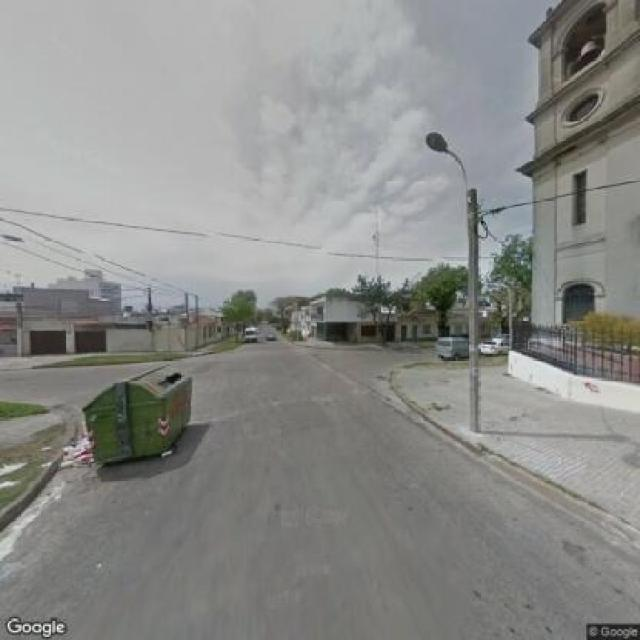garbage: (42, 426, 108, 478)
